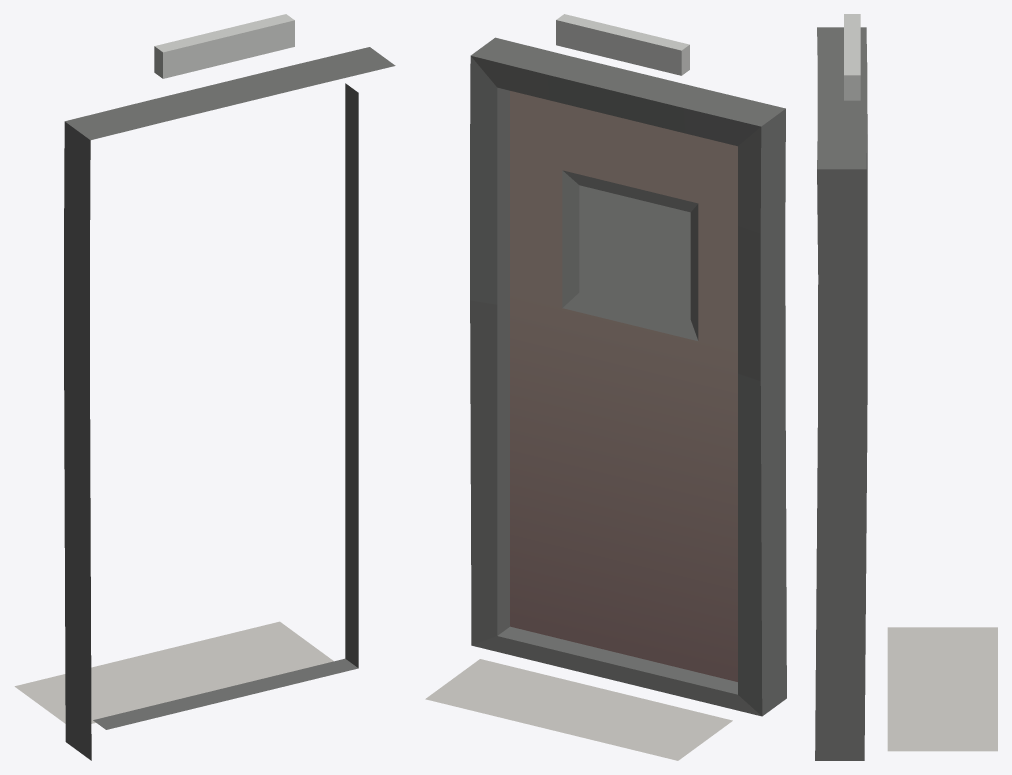
The model's file is Garage_door_1.glb.
The picture shows the model from 3 angles, left to right: view 1: azimuth 30°, elevation 25°; view 2: azimuth 150°, elevation 25°; view 3: azimuth 270°, elevation 25°; orthographic projection. The views are drawn at different scales.
Parts seen in each view (by area): view 1: Garage_door_1; view 2: Garage_door_1; view 3: Garage_door_1.
Boxes of the visible parts, box(x1,y1,x2,y2) form: Garage_door_1: box(14, 14, 395, 760); Garage_door_1: box(425, 14, 786, 760); Garage_door_1: box(815, 14, 997, 760).
Bounding box in the file's own units: 1.21 × 2.56 × 0.6577.
